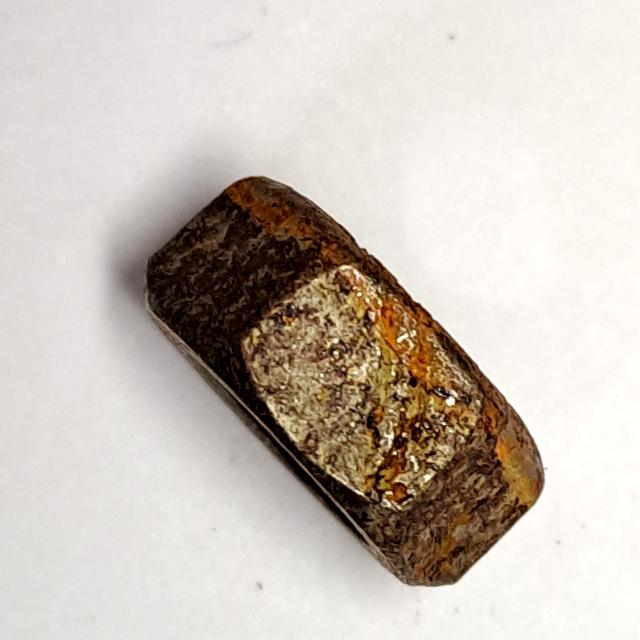Side_Rust: (132, 164, 561, 604)
